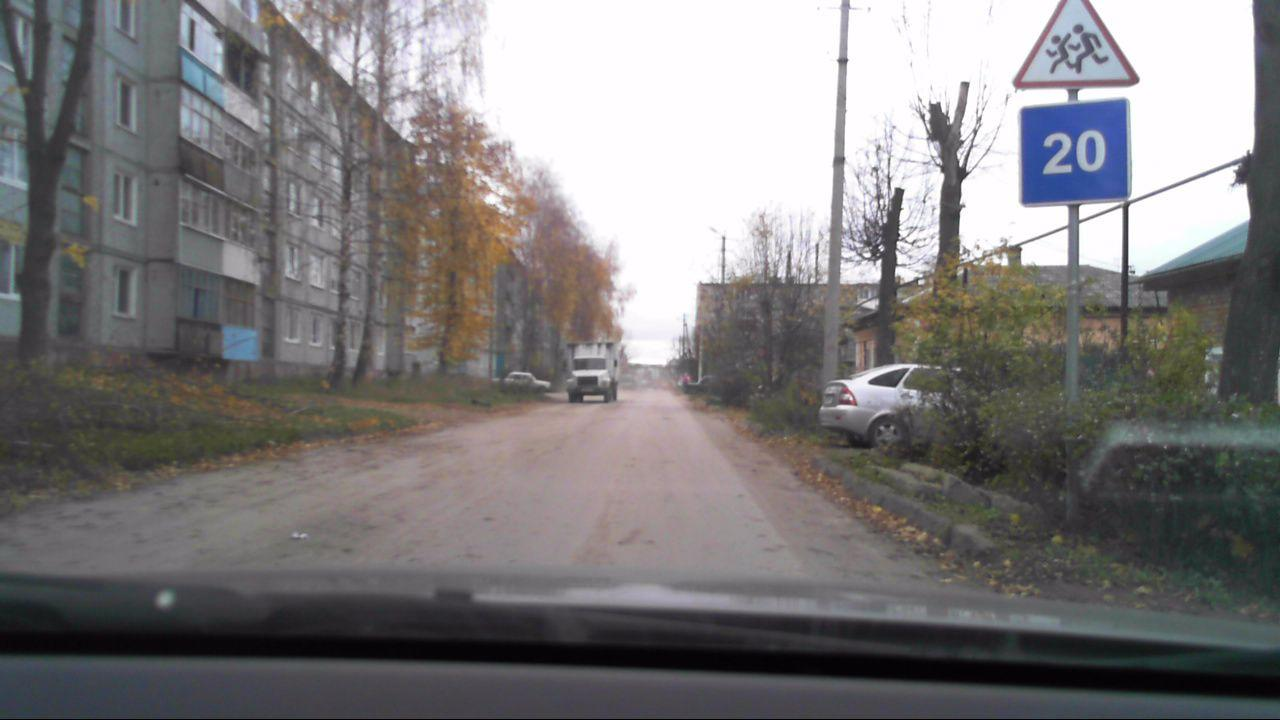1_23: (1016, 0, 1140, 93)
6_2: (1019, 102, 1136, 207)
